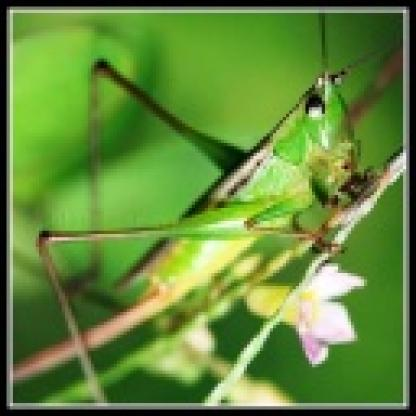grasshopper: (34, 41, 380, 393)
